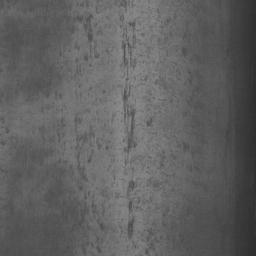Silk spot: (58, 0, 207, 256)
